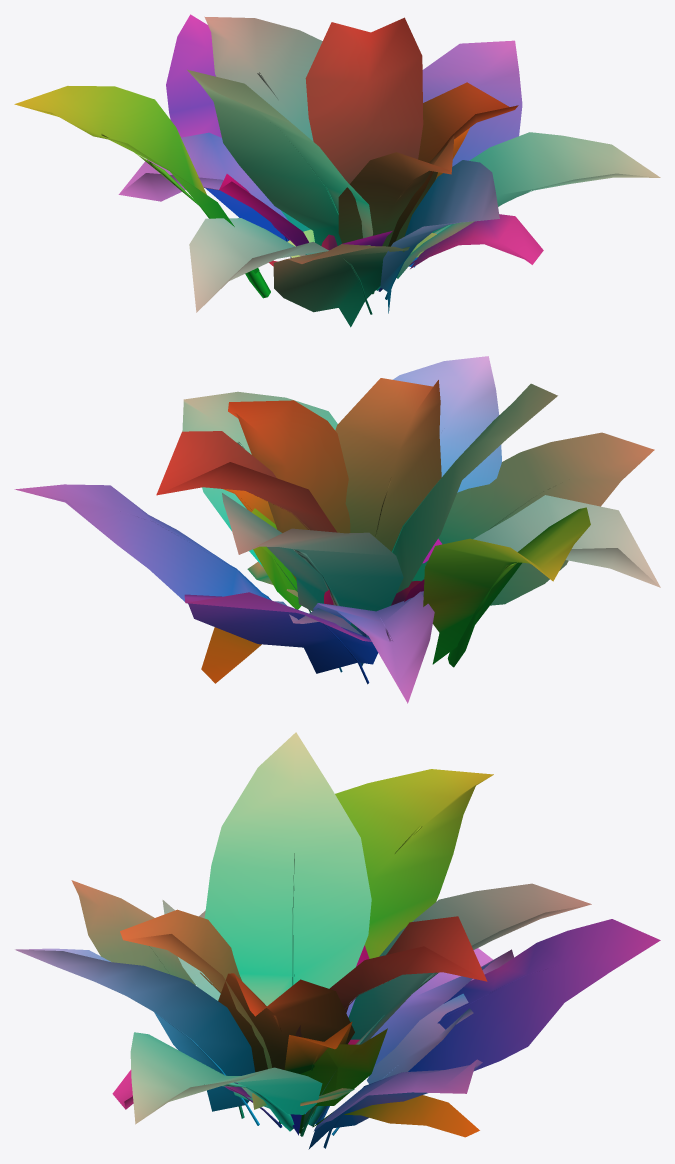
Rendered from Lady_Fern_wdvlditia_Mid_wdvlditia_VarA_LOD1.fbx.
The picture shows the model from 3 angles, top to bottom: view 1: azimuth 30°, elevation 25°; view 2: azimuth 150°, elevation 25°; view 3: azimuth 270°, elevation 25°; orthographic projection. The views are drawn at different scales.
Parts seen in each view (by area): view 1: _en3w_VarA_LOD4; view 2: _en3w_VarA_LOD4; view 3: _en3w_VarA_LOD4.
Part boxes in pixels (left/top/right/bottom): _en3w_VarA_LOD4: left=14, top=14, right=660, bottom=327; _en3w_VarA_LOD4: left=14, top=356, right=660, bottom=703; _en3w_VarA_LOD4: left=15, top=732, right=660, bottom=1149.
Size of the model in its own units: 190 by 102 by 194.
